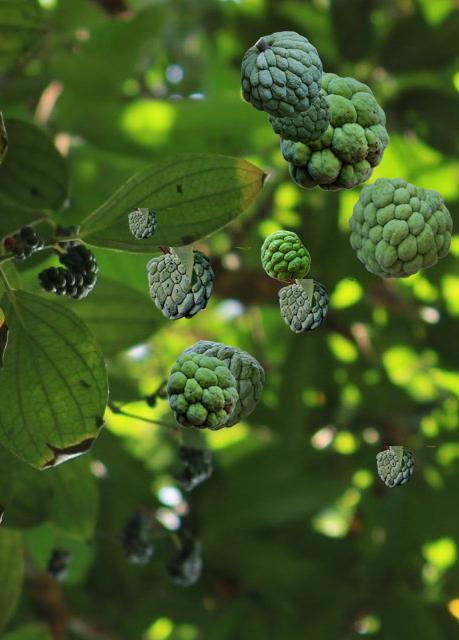atis: (278, 70, 388, 190), (348, 177, 451, 277), (146, 247, 249, 319), (181, 340, 263, 429), (241, 31, 321, 117), (166, 352, 237, 428), (278, 279, 354, 332), (268, 91, 330, 143), (261, 230, 309, 281), (376, 446, 433, 486), (128, 208, 171, 238)
